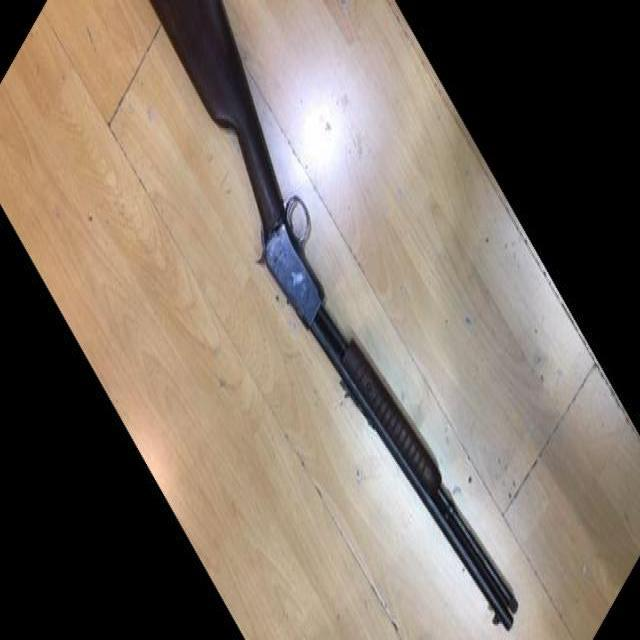weapon: (151, 0, 519, 632)
